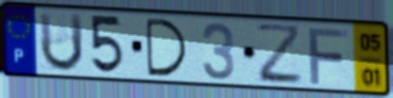3: (201, 20, 236, 81)
5: (89, 13, 126, 77)
D: (143, 16, 191, 79)
F: (306, 25, 351, 87)
U: (36, 10, 86, 74)
Z: (253, 23, 306, 87)
